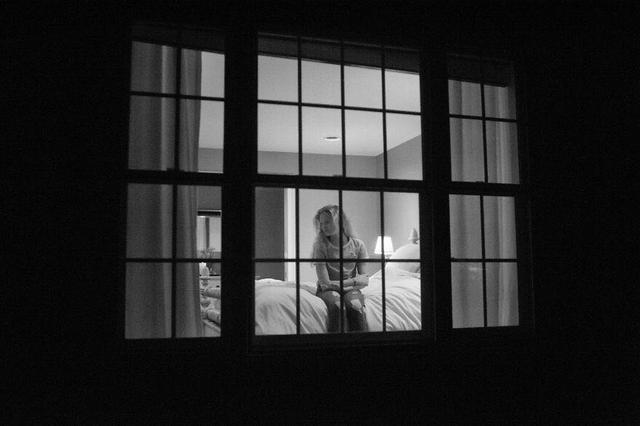face: (318, 212, 336, 235)
specialarea: (321, 221, 327, 226)
